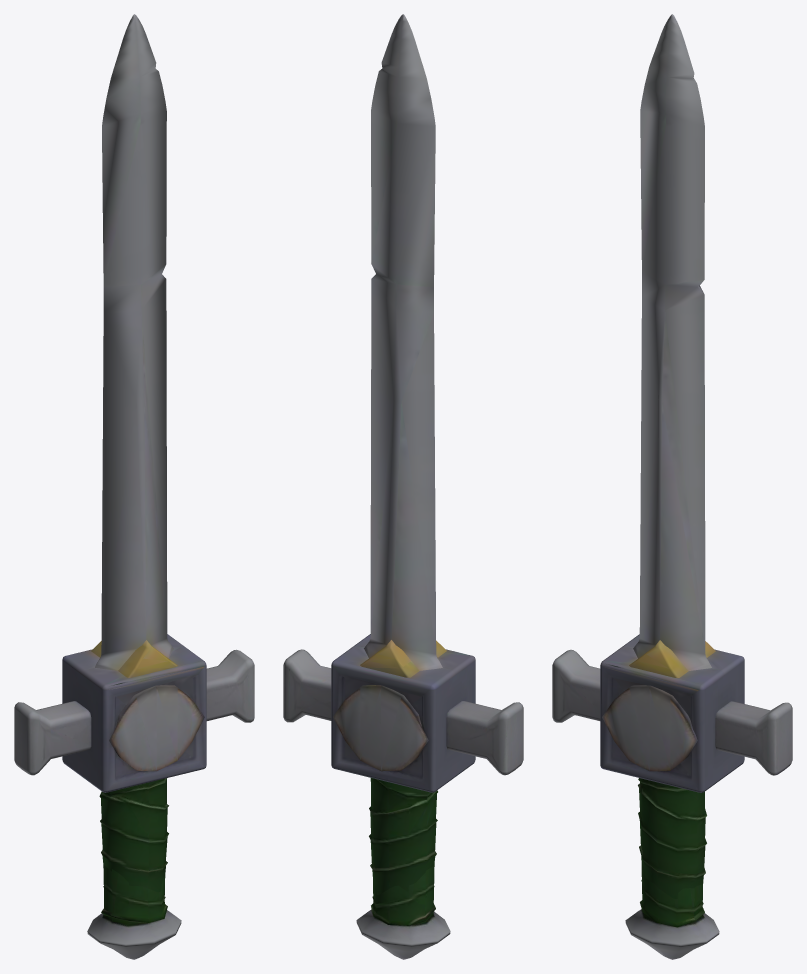
The model's file is guildmark_arming_sword.glb.
The picture shows the model from 3 angles, left to right: view 1: azimuth 30°, elevation 25°; view 2: azimuth 150°, elevation 25°; view 3: azimuth 330°, elevation 25°; orthographic projection.
Parts seen in each view (by area): view 1: tripo_node_c61ba7a9-945a-47a3-a2aa-dd934a21305f; view 2: tripo_node_c61ba7a9-945a-47a3-a2aa-dd934a21305f; view 3: tripo_node_c61ba7a9-945a-47a3-a2aa-dd934a21305f.
Part boxes in pixels (bbox=[...]): tripo_node_c61ba7a9-945a-47a3-a2aa-dd934a21305f: bbox=[14, 14, 254, 959]; tripo_node_c61ba7a9-945a-47a3-a2aa-dd934a21305f: bbox=[283, 14, 523, 959]; tripo_node_c61ba7a9-945a-47a3-a2aa-dd934a21305f: bbox=[552, 14, 792, 959].
Size of the model in its own units: 0.5013 by 2 by 0.1733.
1 material, 1 textured.
